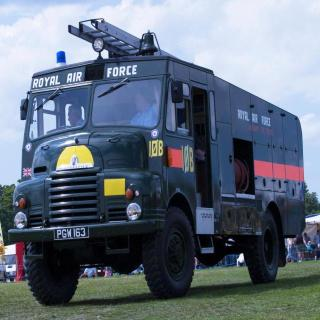Fire_truck: (8, 17, 306, 306)
